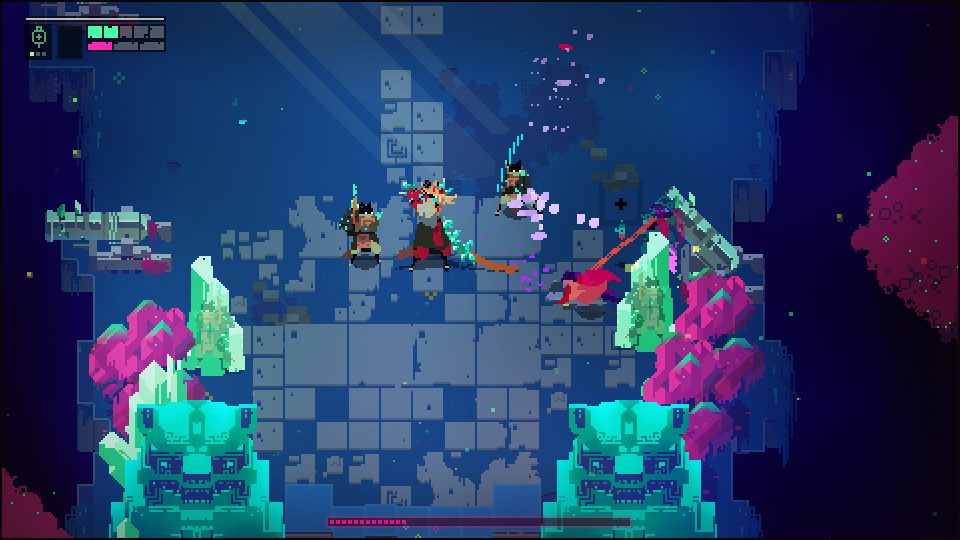hanged_man: (394, 174, 499, 272)
player: (544, 275, 617, 314)
